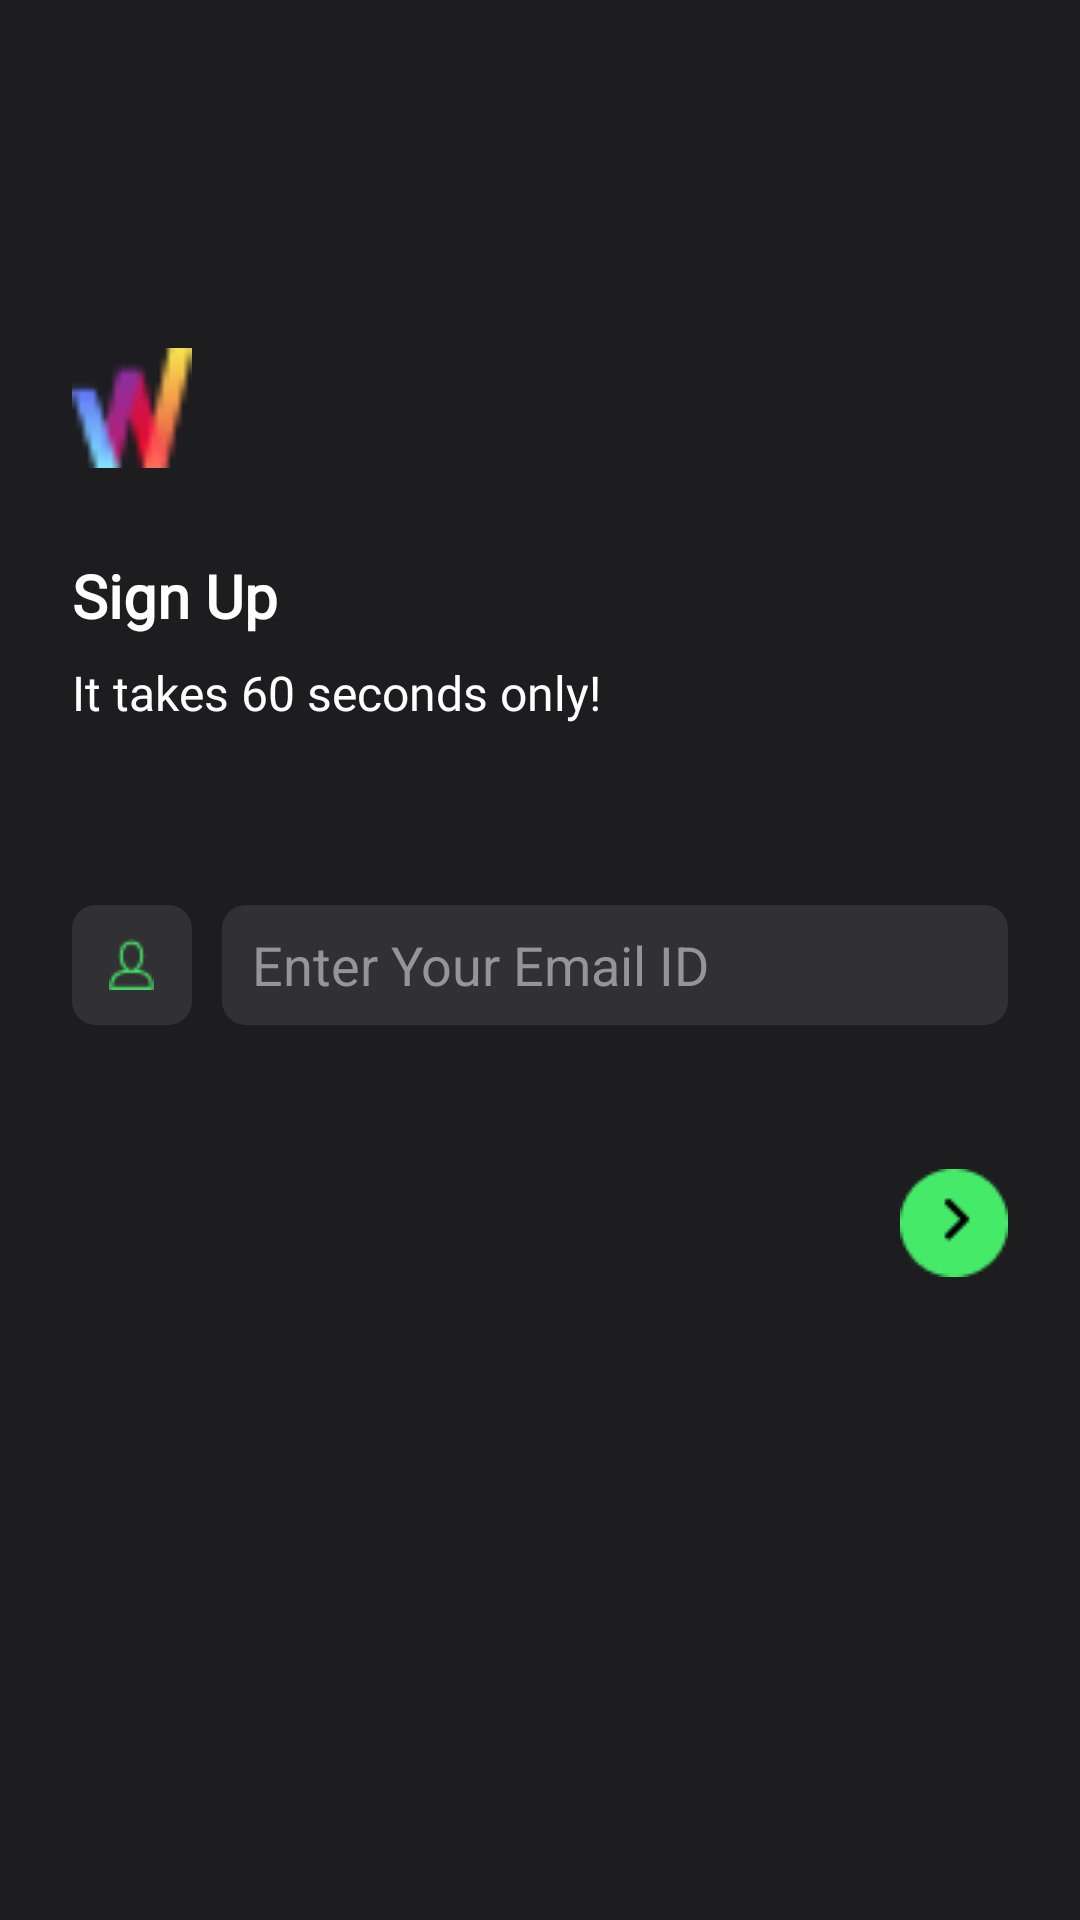

Where icons sit on this 1080×1920 app screen, as (x1,y1,x2,y2):
next: (900,1169,1008,1277)
